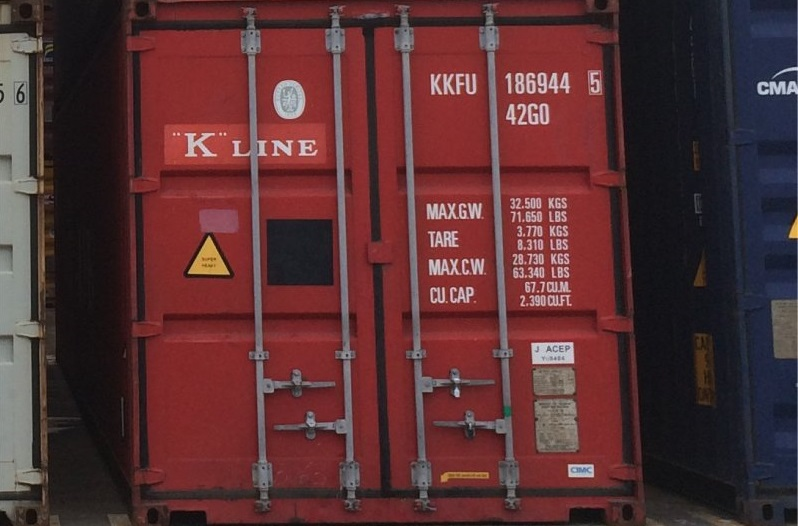container_door: (122, 3, 650, 521)
